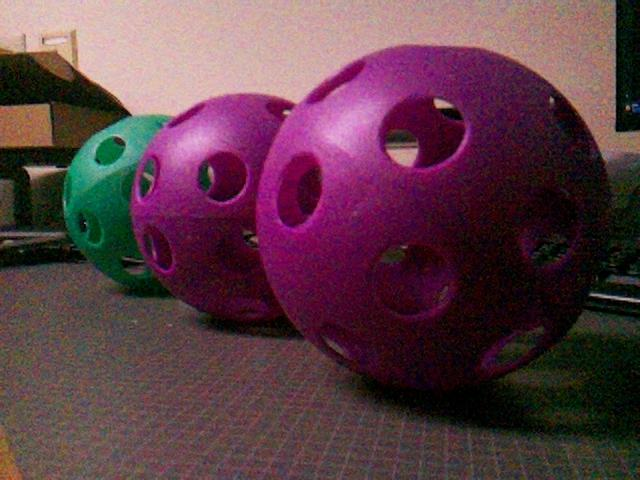Green: (61, 118, 175, 292)
Purple: (260, 49, 608, 390), (132, 97, 306, 324)
